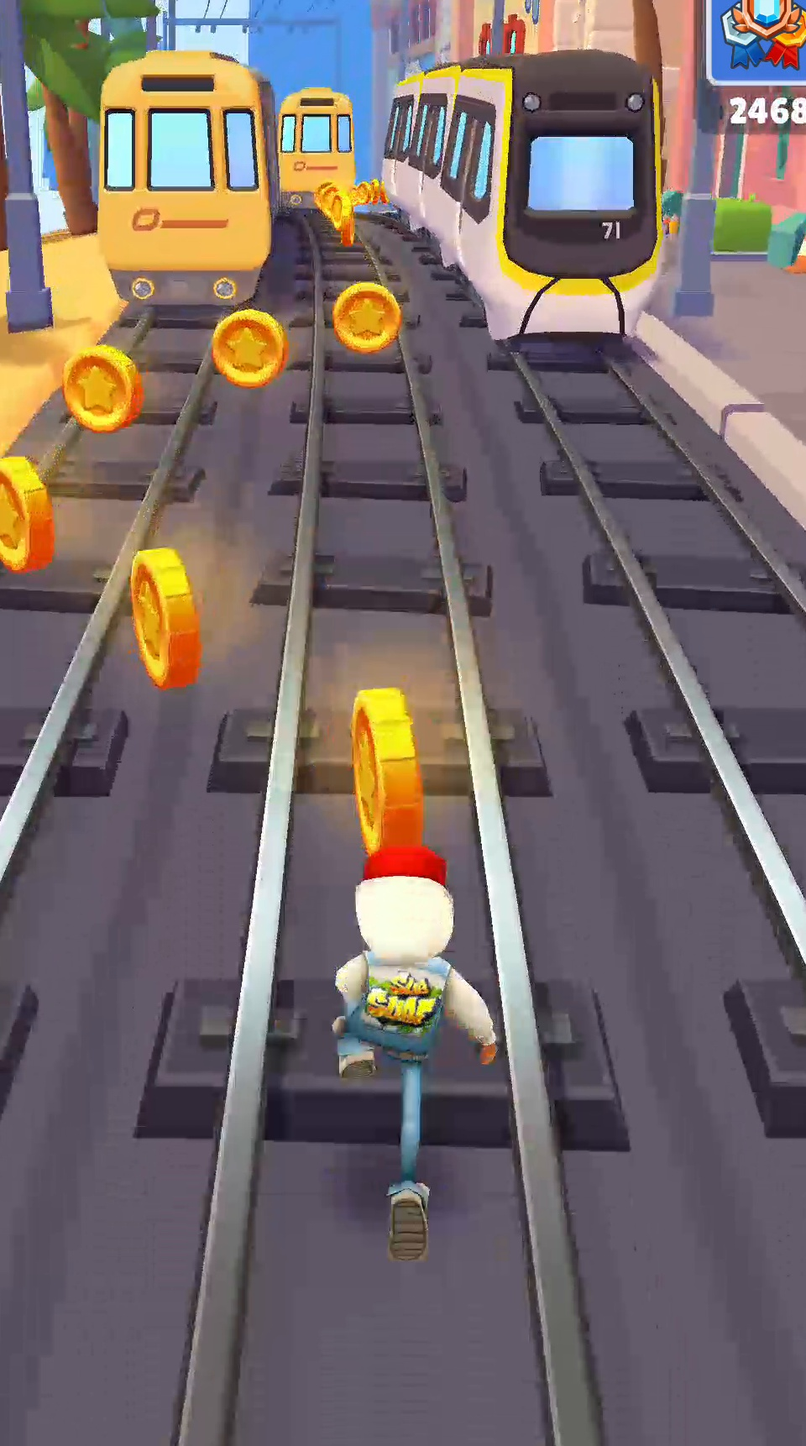train: (382, 50, 663, 341), (98, 50, 280, 312), (278, 87, 355, 208)
